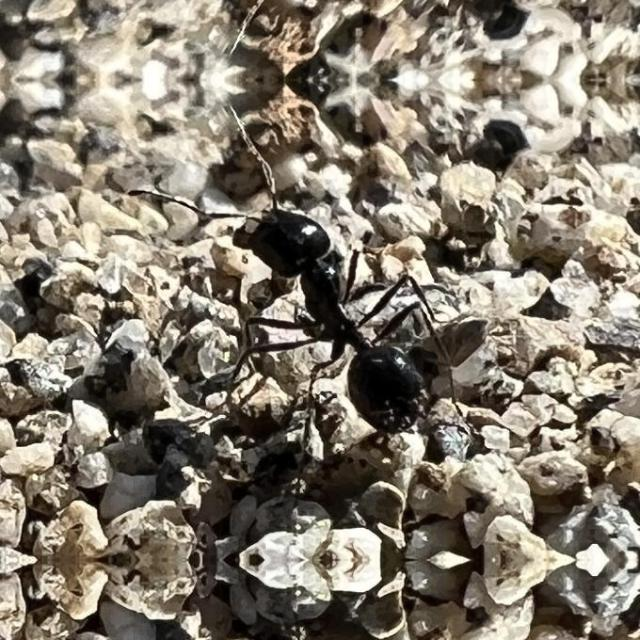Messor: (223, 167, 434, 453)
